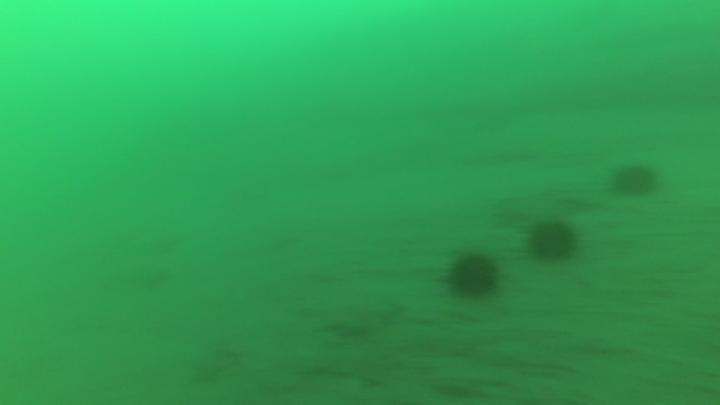echinus: (440, 241, 506, 300), (519, 214, 583, 270), (605, 158, 665, 204)
